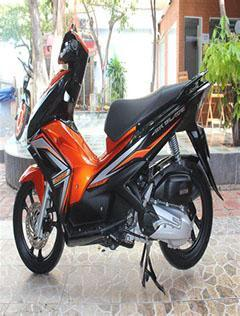motorcycle: (13, 18, 233, 300)
